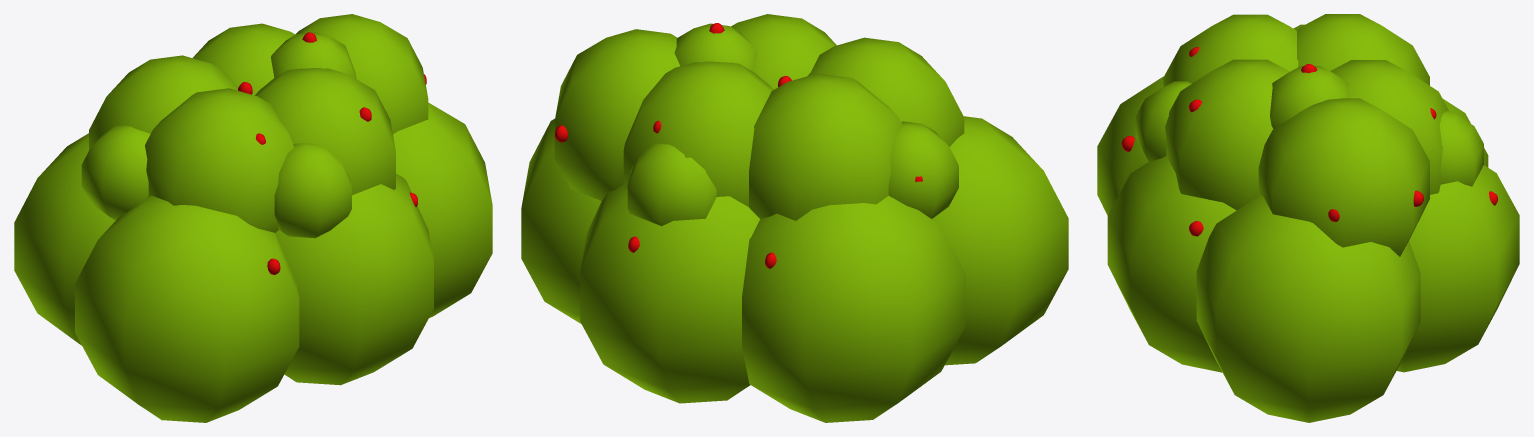
File: Bush.fbx
3 renders of one model, left to right at view 1: azimuth 30°, elevation 25°; view 2: azimuth 150°, elevation 25°; view 3: azimuth 270°, elevation 25°, orthographic. The views are drawn at different scales.
Parts seen in each view (by area): view 1: pSphere39, pSphere6, pSphere12, pSphere14, pSphere8, pSphere4, pSphere40; view 2: pSphere39, pSphere8, pSphere10, pSphere6, pSphere4, pSphere14, pSphere40; view 3: pSphere39, pSphere4, pSphere10, pSphere12, pSphere14, pSphere40.
Boxes of the visible parts, x1,y1,x2,y2 form: pSphere39: (14,14,492,422); pSphere6: (75,195,299,422); pSphere12: (275,173,419,385); pSphere14: (259,68,395,194); pSphere8: (43,146,115,344); pSphere4: (396,102,492,317); pSphere40: (238,32,426,274); pSphere39: (521,14,1039,422); pSphere8: (742,195,965,421); pSphere10: (583,184,759,403); pSphere6: (933,133,1068,365); pSphere4: (527,118,581,323); pSphere14: (754,20,836,89); pSphere40: (555,23,922,268); pSphere39: (1097,14,1494,421); pSphere4: (1196,195,1419,422); pSphere10: (1403,165,1519,372); pSphere12: (1126,156,1236,372); pSphere14: (1165,63,1278,210); pSphere40: (1121,47,1497,236).
Size of the model in its own units: 6.04 by 4.07 by 5.02.
